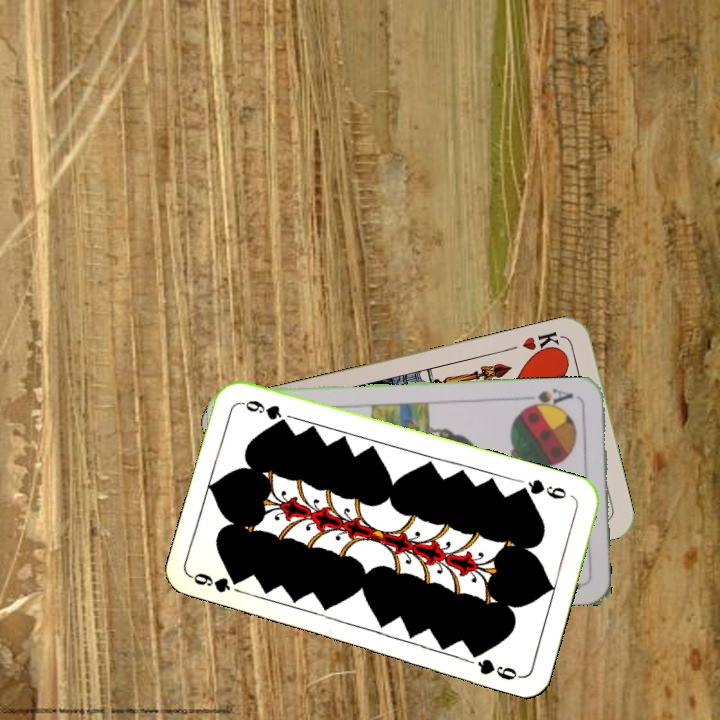G9: (515, 475, 569, 502), (188, 569, 233, 595)
HK: (518, 327, 565, 359)
SA: (521, 384, 575, 412)
